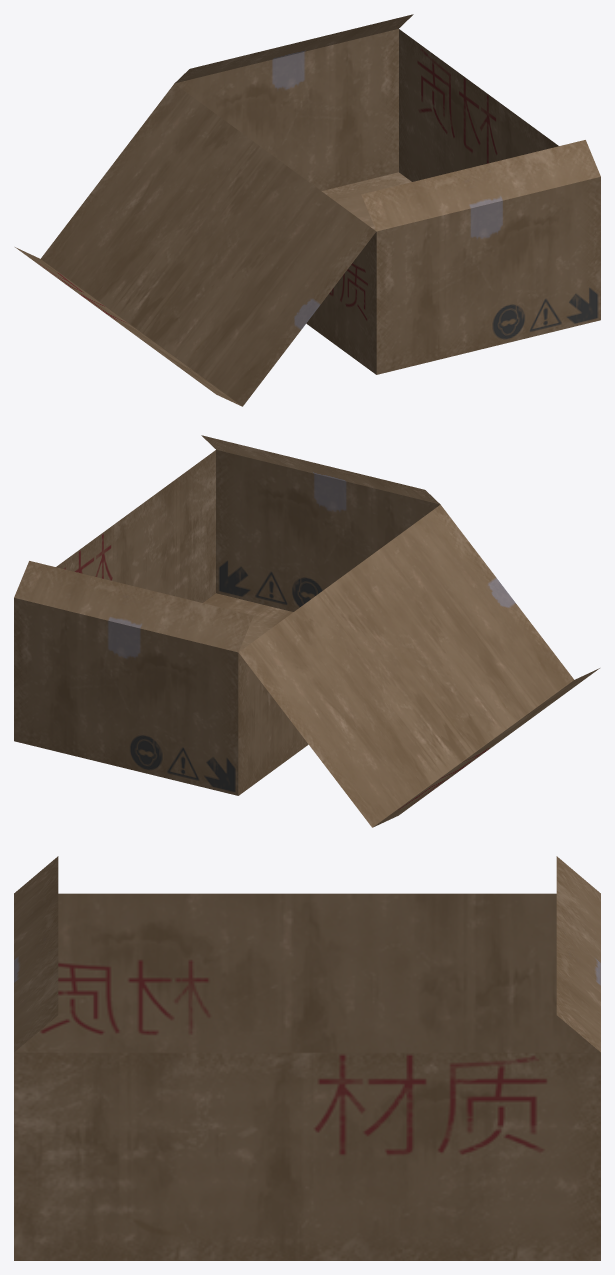
The picture shows the model from 3 angles, top to bottom: view 1: azimuth 30°, elevation 25°; view 2: azimuth 150°, elevation 25°; view 3: azimuth 270°, elevation 25°; orthographic projection. The views are drawn at different scales.
Visible parts, largest first — view 1: Box_2-b.001_Boxes_0; view 2: Box_2-b.001_Boxes_0; view 3: Box_2-b.001_Boxes_0.
Part boxes in pixels (<box>): Box_2-b.001_Boxes_0: <box>15,14,600,406</box>; Box_2-b.001_Boxes_0: <box>14,435,599,827</box>; Box_2-b.001_Boxes_0: <box>14,856,600,1260</box>.
Size of the model in its own units: 0.3173 by 0.1334 by 0.2886.
1 material, 1 textured.
